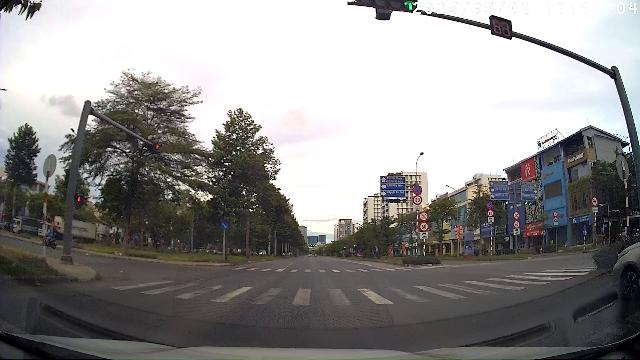127-toc-do-toi-da-60: (419, 222, 429, 232), (514, 221, 520, 228)
127-toc-do-toi-da-80: (413, 195, 422, 205), (488, 210, 494, 216)
130-cam-dung-va-do-xe: (413, 186, 423, 194), (486, 202, 494, 208)
